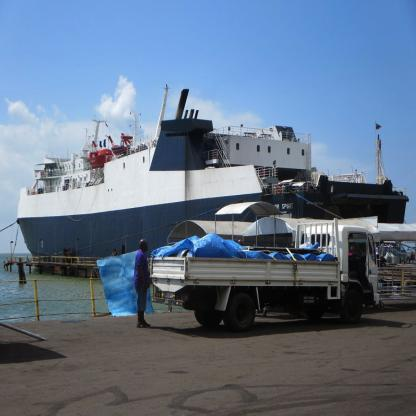Truck: (126, 218, 387, 333)
